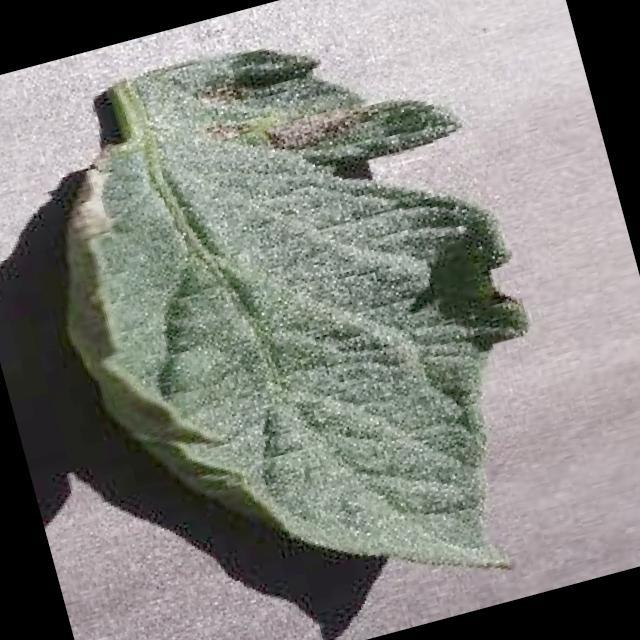Tomato Early blight leaf: (19, 0, 587, 640)
